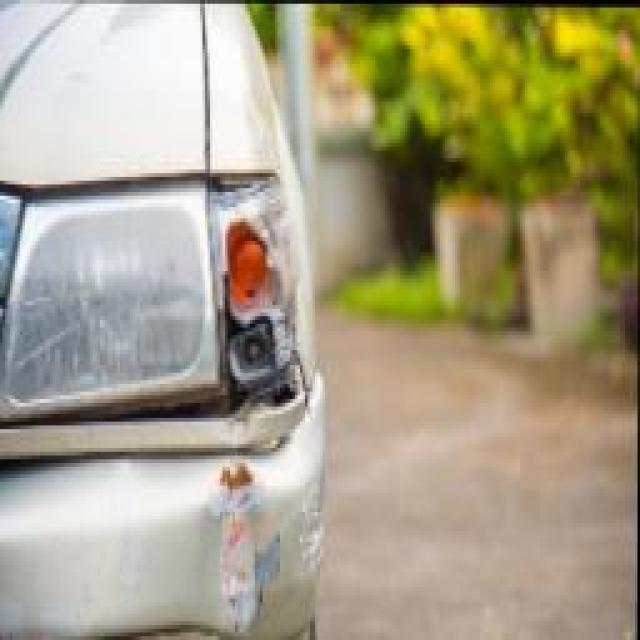Bumper: (192, 410, 348, 638)
Light: (192, 177, 291, 396)
